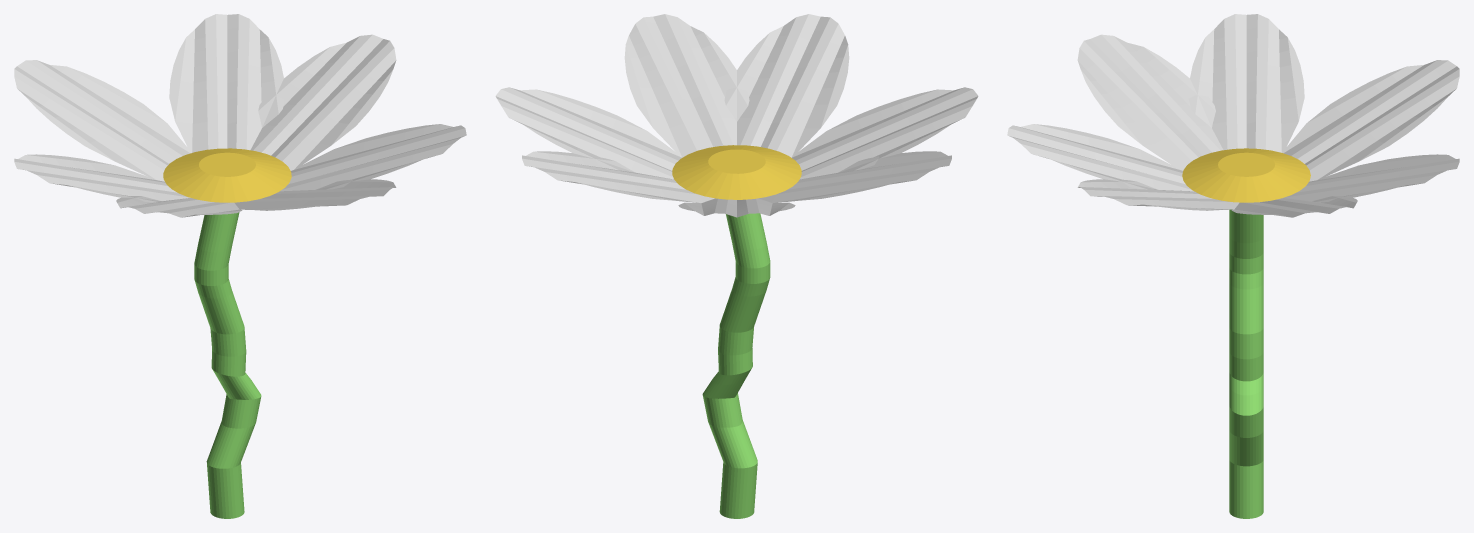
Rendered from flower.fbx.
The picture shows the model from 3 angles, left to right: view 1: azimuth 30°, elevation 25°; view 2: azimuth 150°, elevation 25°; view 3: azimuth 270°, elevation 25°; orthographic projection.
Parts seen in each view (by area): view 1: Circle, Circle.001; view 2: Circle, Circle.001; view 3: Circle, Circle.001.
Part boxes in pixels (<box>): Circle: <box>14,14,466,217</box>; Circle.001: <box>163,148,291,518</box>; Circle: <box>495,14,978,217</box>; Circle.001: <box>672,145,801,518</box>; Circle: <box>1007,14,1459,217</box>; Circle.001: <box>1182,148,1310,518</box>.
Size of the model in its own units: 397 by 368 by 381.
